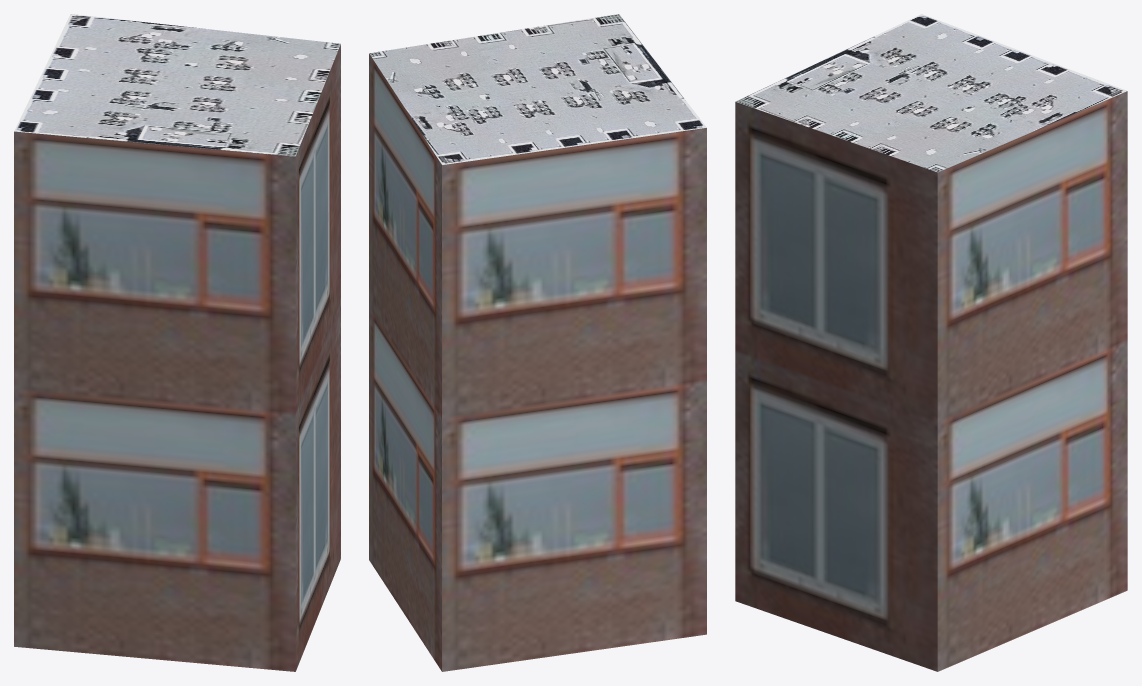
Rendered from ResTex__2525.fbx.
3 renders of one model, left to right at view 1: azimuth 30°, elevation 25°; view 2: azimuth 150°, elevation 25°; view 3: azimuth 270°, elevation 25°, orthographic. The views are drawn at different scales.
Visible parts, largest first — view 1: CityEngineMaterial_19_m, CityEngineMaterial_15_m; view 2: CityEngineMaterial_19_m, CityEngineMaterial_15_m; view 3: CityEngineMaterial_19_m, CityEngineMaterial_15_m.
Part boxes in pixels (x1,y1,x2,y2): CityEngineMaterial_19_m: [14, 44, 340, 671]; CityEngineMaterial_15_m: [14, 14, 340, 156]; CityEngineMaterial_19_m: [369, 53, 706, 671]; CityEngineMaterial_15_m: [369, 14, 706, 164]; CityEngineMaterial_19_m: [735, 91, 1127, 671]; CityEngineMaterial_15_m: [735, 14, 1127, 172].
Size of the model in its own units: 4.08 by 6 by 4.27.
Materials: 2 (2 with a texture image).
